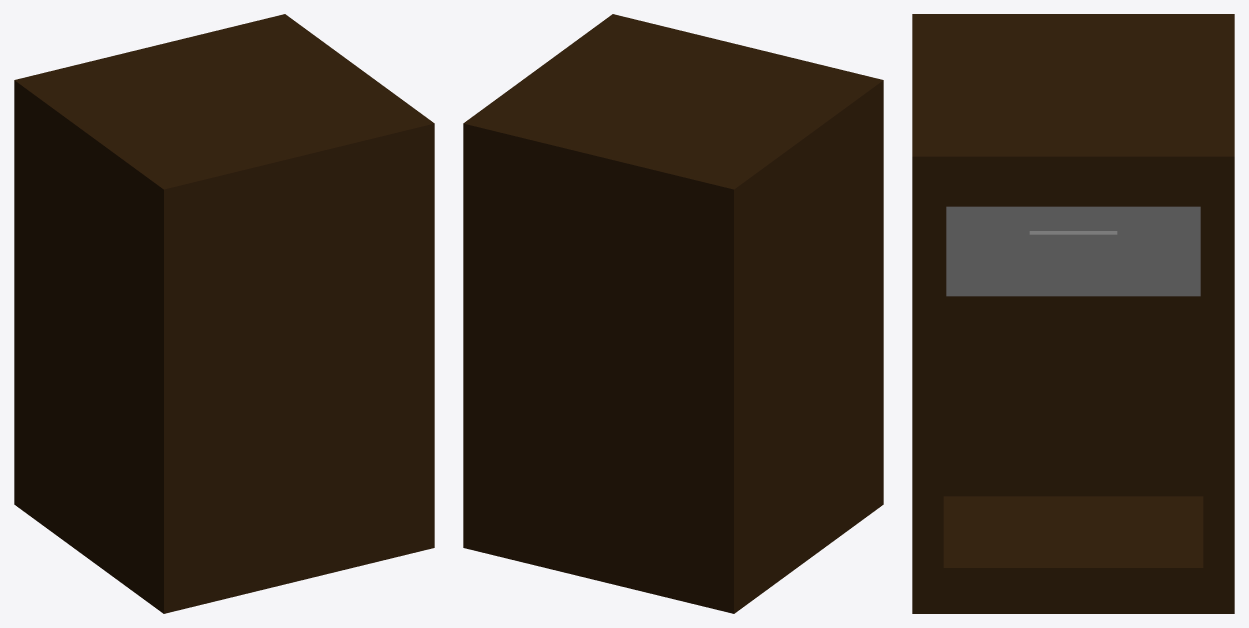
Rendered from Nightstand.glb.
The picture shows the model from 3 angles, left to right: view 1: azimuth 30°, elevation 25°; view 2: azimuth 150°, elevation 25°; view 3: azimuth 270°, elevation 25°; orthographic projection. The views are drawn at different scales.
Visible parts, largest first — view 1: Plane; view 2: Plane; view 3: Plane.
Part boxes in pixels (box(x1,y1,x2,y2)): Plane: box(14, 14, 434, 613); Plane: box(463, 14, 883, 613); Plane: box(912, 14, 1234, 613).
Bounding box in the file's own units: 0.2384 × 0.3474 × 0.222.
